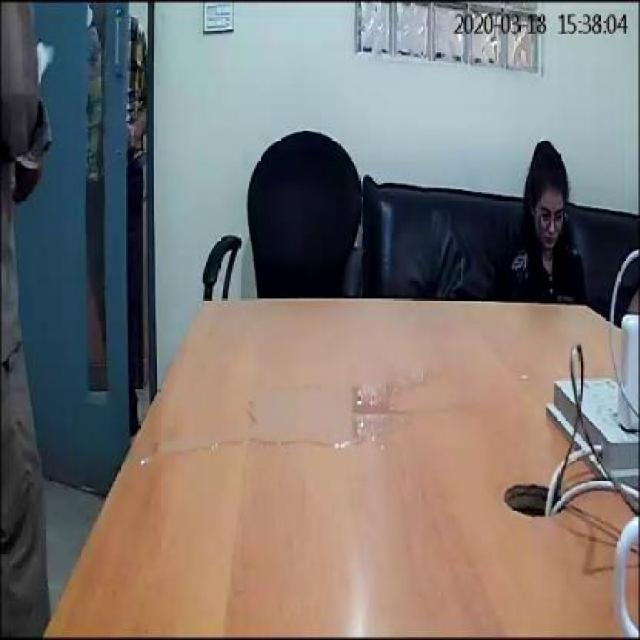spill: (134, 380, 383, 465)
